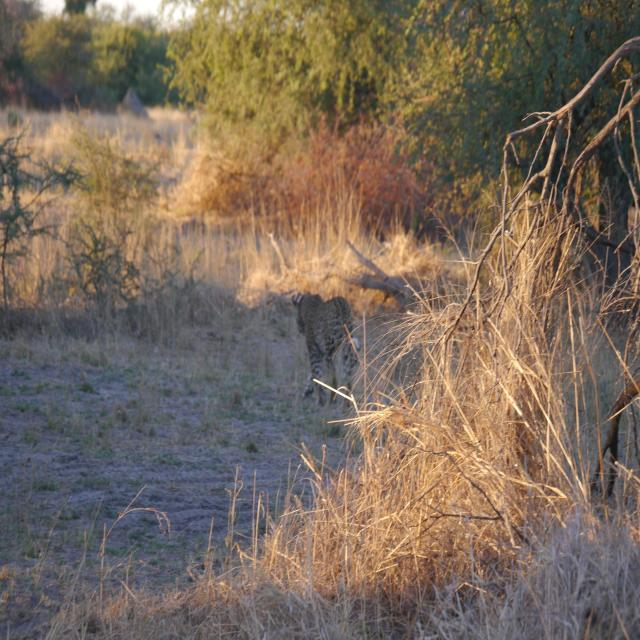Leopard: (266, 286, 372, 415)
